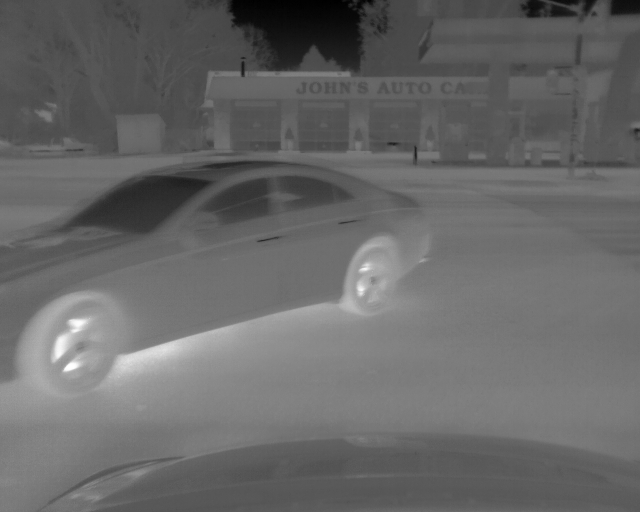car: (1, 151, 431, 403)
